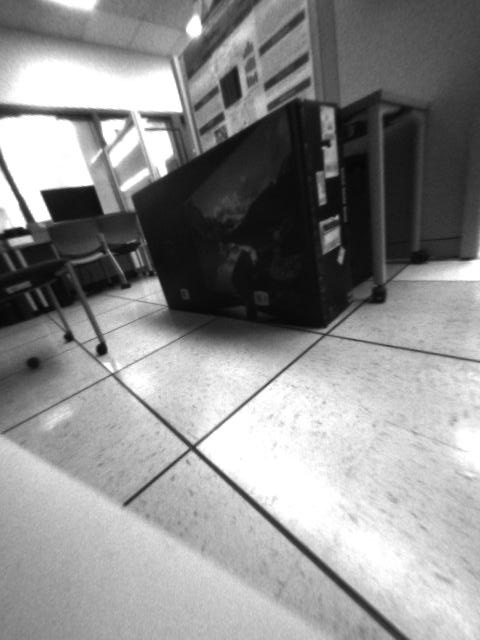dogtoy: (22, 353, 46, 375)
